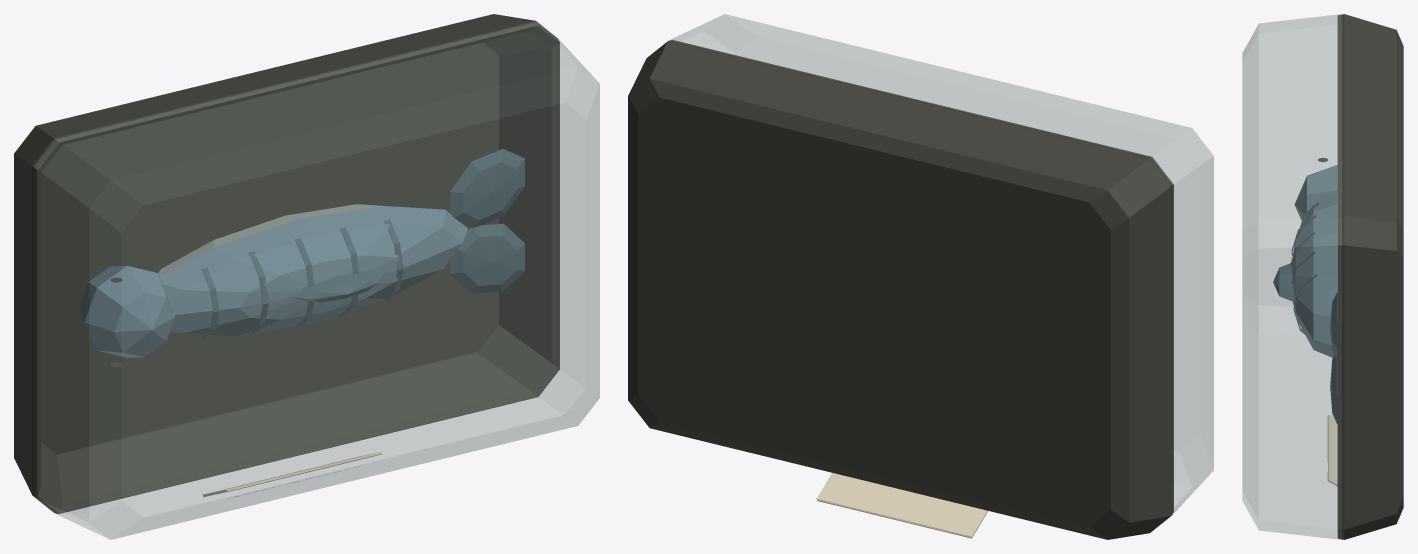
The model's file is mackerel.glb.
3 renders of one model, left to right at view 1: azimuth 30°, elevation 25°; view 2: azimuth 150°, elevation 25°; view 3: azimuth 270°, elevation 25°, orthographic. The views are drawn at different scales.
Visible parts, largest first — view 1: mackerel; view 2: mackerel; view 3: mackerel.
Boxes of the visible parts, bbox=[...] form: mackerel: bbox=[14, 14, 599, 539]; mackerel: bbox=[628, 14, 1213, 539]; mackerel: bbox=[1242, 14, 1403, 539].
Bounding box in the file's own units: 0.22 × 0.1639 × 0.068.
